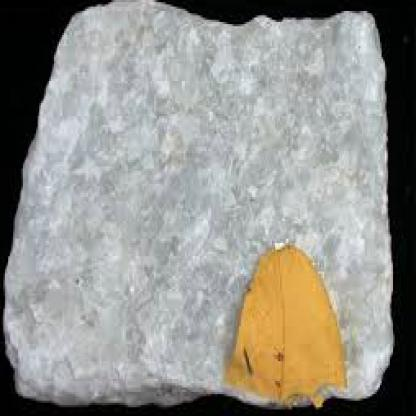Metamorphic_Marble: (1, 0, 394, 405)
